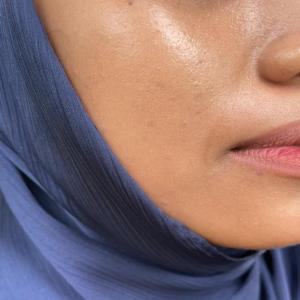Oily-Skin: (86, 0, 300, 170)
